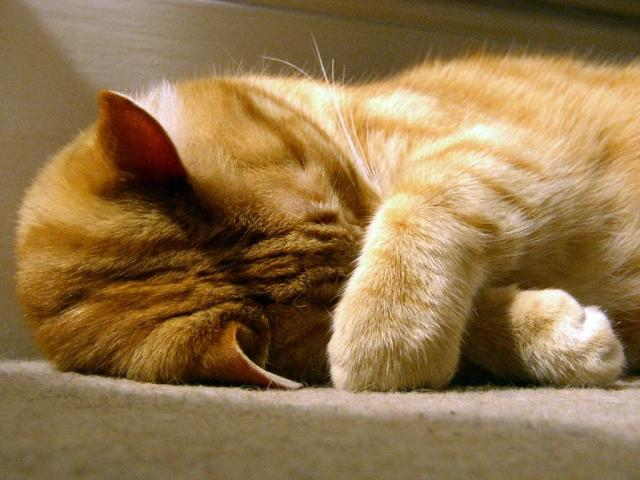Cat: (6, 25, 640, 392)
